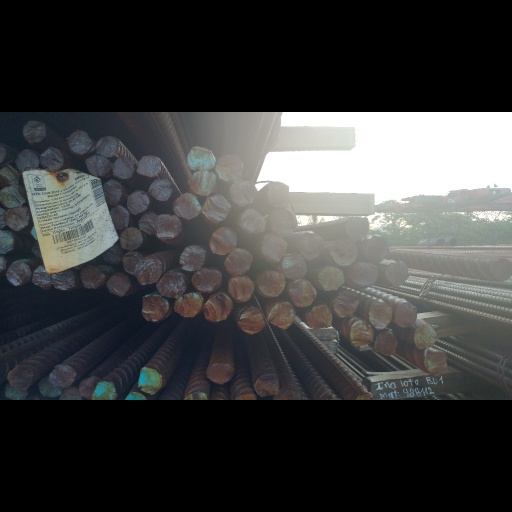dipstick: (201, 195, 231, 224), (203, 293, 232, 323), (237, 305, 265, 335), (172, 192, 203, 219), (190, 268, 223, 293), (178, 244, 206, 272), (332, 290, 359, 319), (224, 249, 253, 276), (210, 226, 237, 255), (215, 155, 244, 182), (289, 280, 317, 307), (261, 234, 288, 262), (174, 291, 202, 318), (155, 273, 186, 297), (227, 277, 254, 304), (154, 213, 181, 240), (298, 231, 323, 260), (267, 303, 294, 329), (142, 295, 168, 322), (258, 271, 286, 296), (238, 209, 266, 234), (135, 257, 160, 285), (48, 363, 76, 388), (369, 301, 393, 330), (348, 320, 374, 346), (282, 252, 307, 279), (188, 171, 216, 195), (352, 262, 378, 287), (330, 241, 357, 265), (317, 266, 344, 290), (66, 130, 93, 154), (138, 368, 162, 395), (187, 146, 215, 169), (84, 155, 113, 177), (363, 234, 387, 260), (270, 209, 296, 233), (231, 181, 257, 205), (386, 260, 409, 287), (207, 361, 234, 384), (7, 368, 34, 391), (373, 331, 397, 356), (266, 183, 290, 208), (80, 266, 105, 290), (50, 269, 76, 292), (4, 207, 30, 230), (413, 324, 436, 349), (344, 216, 369, 239), (306, 305, 331, 328), (107, 272, 130, 297), (0, 186, 25, 209), (37, 374, 63, 396), (119, 227, 142, 251), (6, 262, 29, 286), (40, 147, 63, 171), (22, 119, 46, 142), (424, 349, 446, 374), (395, 302, 417, 327), (32, 265, 54, 290), (254, 375, 279, 396), (136, 156, 161, 177), (128, 190, 149, 215), (95, 136, 118, 158), (101, 181, 122, 205), (122, 250, 142, 275), (16, 149, 39, 170), (148, 180, 172, 200), (113, 157, 135, 178), (91, 382, 116, 400), (4, 383, 30, 400), (79, 377, 101, 396), (111, 206, 129, 228), (101, 245, 121, 264), (493, 258, 512, 278), (138, 213, 154, 236), (0, 233, 15, 255), (1, 166, 18, 185), (58, 387, 81, 400), (125, 393, 144, 400)
